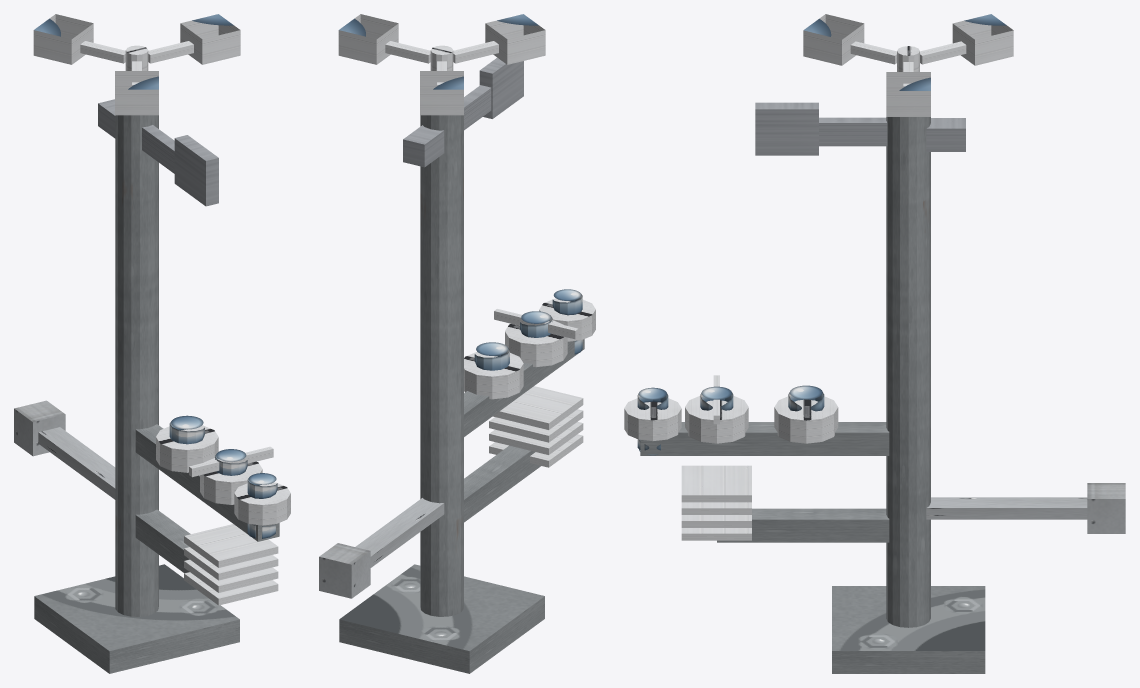
File: met_mast.obj
3 views of the same model, side by side, from view 1: azimuth 30°, elevation 25°; view 2: azimuth 150°, elevation 25°; view 3: azimuth 270°, elevation 25° (orthographic).
Parts seen in each view (by area): view 1: mast, rotate_cups, shield, snow, rotate_vane, boom, diffuse, pyranometer, albedometer; view 2: mast, rotate_cups, shield, boom, snow, rotate_vane, diffuse, pyranometer, albedometer; view 3: mast, boom, rotate_cups, rotate_vane, snow, shield, diffuse, pyranometer, albedometer.
Part boxes in pixels (x1,y1,x2,y2): mast: [34, 115, 239, 673]; rotate_cups: [33, 14, 240, 115]; shield: [184, 524, 278, 605]; snow: [14, 400, 115, 499]; rotate_vane: [98, 99, 218, 206]; boom: [135, 424, 279, 573]; diffuse: [189, 446, 273, 504]; pyranometer: [156, 415, 218, 472]; albedometer: [234, 473, 290, 539]; mast: [339, 115, 544, 673]; rotate_cups: [338, 14, 545, 115]; shield: [489, 386, 583, 467]; boom: [464, 339, 584, 522]; snow: [319, 498, 444, 598]; rotate_vane: [403, 57, 523, 167]; diffuse: [494, 309, 578, 367]; pyranometer: [464, 342, 523, 399]; albedometer: [539, 289, 595, 354]; mast: [832, 117, 985, 673]; boom: [640, 422, 889, 542]; rotate_cups: [803, 14, 1013, 116]; rotate_vane: [755, 102, 965, 155]; snow: [926, 483, 1125, 533]; shield: [681, 465, 751, 540]; diffuse: [685, 375, 748, 443]; pyranometer: [774, 385, 838, 443]; albedometer: [624, 387, 681, 455].
Size of what is drawn, in the model's own units: 0.29 by 1.03 by 0.785.
